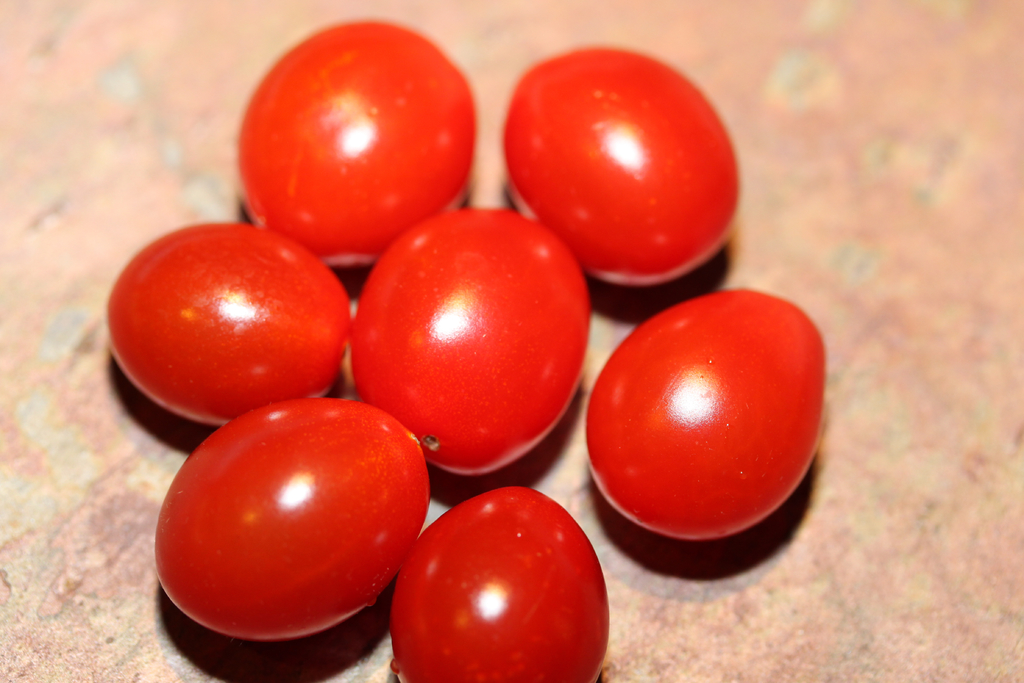Tomato: (142, 397, 426, 648), (353, 208, 592, 477), (584, 284, 828, 540), (243, 20, 478, 272), (503, 48, 734, 288), (104, 217, 350, 426), (389, 479, 611, 682)
